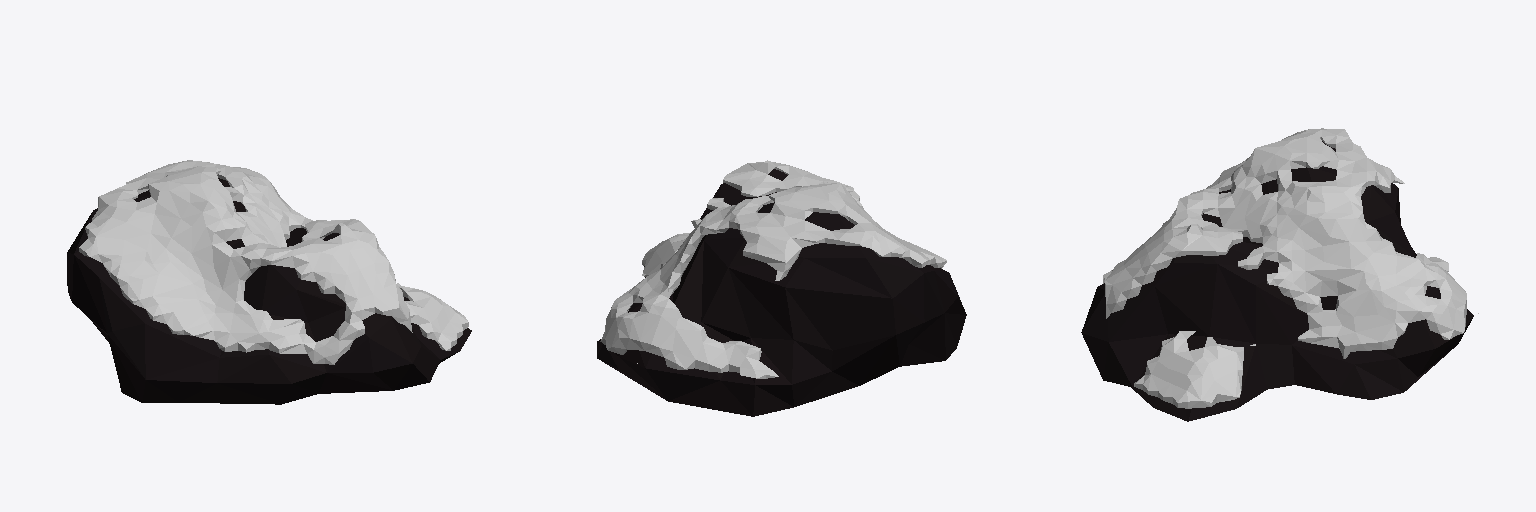
Rendered from Rock_3.obj.
3 views of the same model, side by side, from view 1: azimuth 30°, elevation 25°; view 2: azimuth 150°, elevation 25°; view 3: azimuth 270°, elevation 25° (orthographic).
Parts seen in each view (by area): view 1: Rock_3.001, Rock_3; view 2: Rock_3, Rock_3.001; view 3: Rock_3.001, Rock_3.
Part boxes in pixels (bbox=[...]): Rock_3.001: bbox=[79, 160, 468, 364]; Rock_3: bbox=[67, 178, 471, 404]; Rock_3: bbox=[597, 169, 966, 416]; Rock_3.001: bbox=[600, 160, 946, 378]; Rock_3.001: bbox=[1103, 128, 1478, 408]; Rock_3: bbox=[1081, 141, 1473, 421].
Bounding box in the file's own units: 2.25 × 1.05 × 2.27.